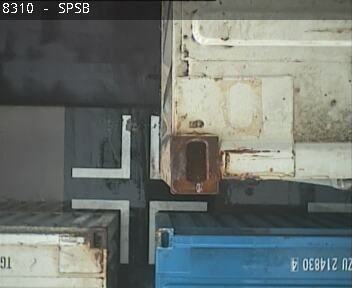groundmarker_1: (71, 196, 207, 263), (71, 114, 164, 178)
